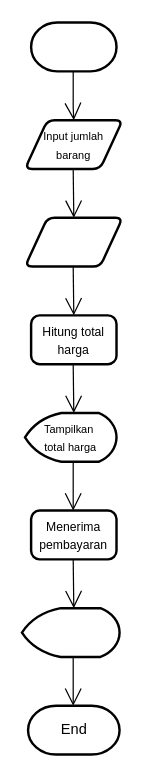
Some shapes in this 145 by 776 pixel diagram are drawn without their labels. The shapes that lost their labels are listed below. From the top down, each one's centre as x and y in pixels, then its label:
At (x=73, y=46): "Start".
At (x=73, y=241): "Input harga satuan".
At (x=70, y=632): "Cetak struk belanja".
